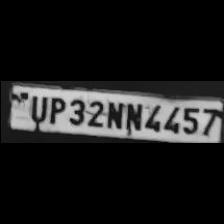2: (85, 98, 103, 128)
3: (65, 96, 84, 126)
4: (160, 104, 180, 134), (142, 102, 160, 132)
5: (178, 104, 198, 136)
7: (200, 105, 218, 137)
N: (122, 100, 142, 132), (104, 98, 122, 130)
P: (44, 94, 64, 124)
U: (24, 92, 46, 124)
